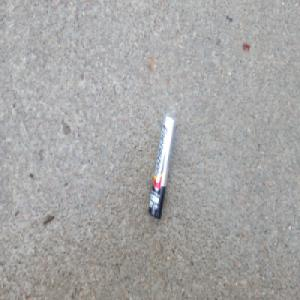Battery: (148, 112, 175, 218)
